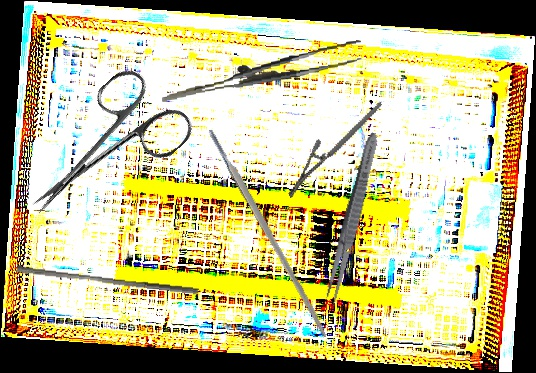Dressing Forceps: (321, 130, 383, 309)
Iris Scissors: (4, 57, 199, 248)
Needle Holder: (269, 101, 402, 199)
Pusher: (15, 265, 200, 295)
Scalpel Handle: (206, 126, 331, 340)
Tissue Forceps: (157, 39, 366, 103)
